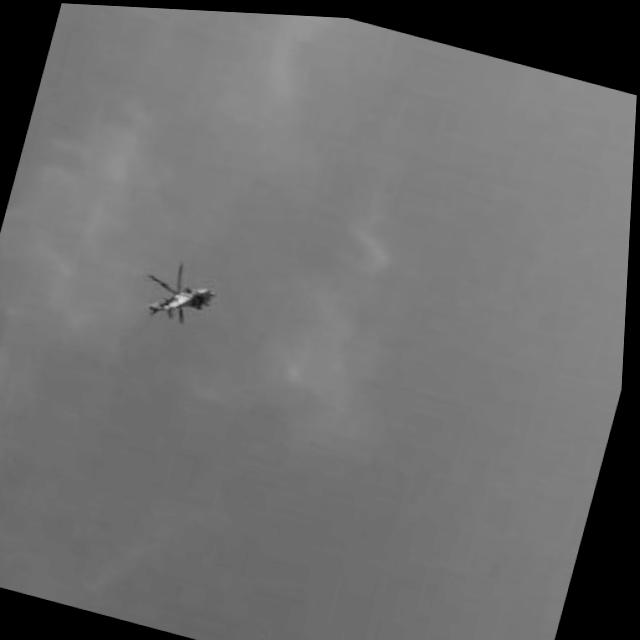helikopter: (144, 251, 226, 329)
